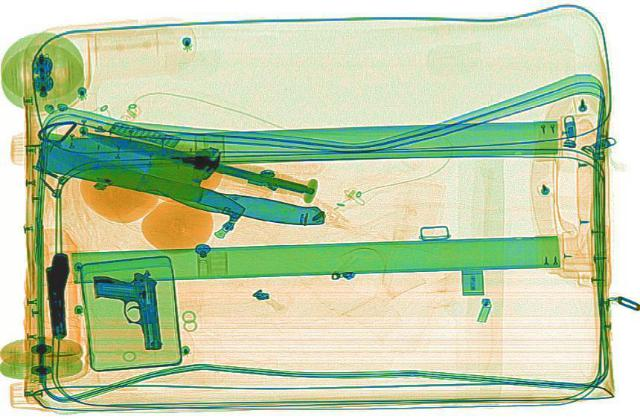Gun: (88, 268, 164, 352), (43, 253, 71, 338)
Knife: (20, 119, 348, 234), (74, 123, 310, 196), (33, 144, 253, 217)
